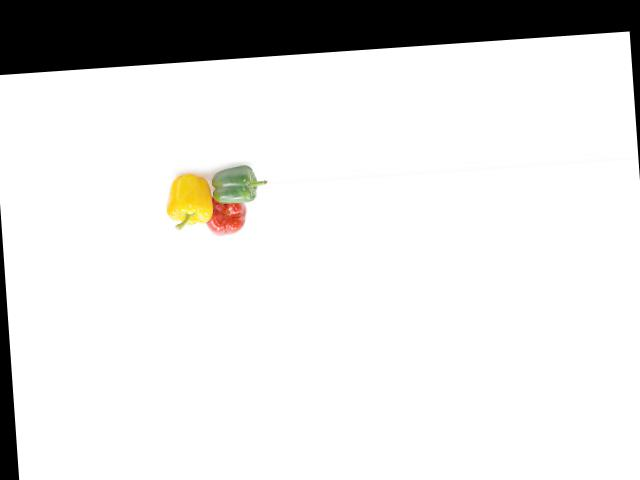bell_pepper: (201, 164, 264, 210)
